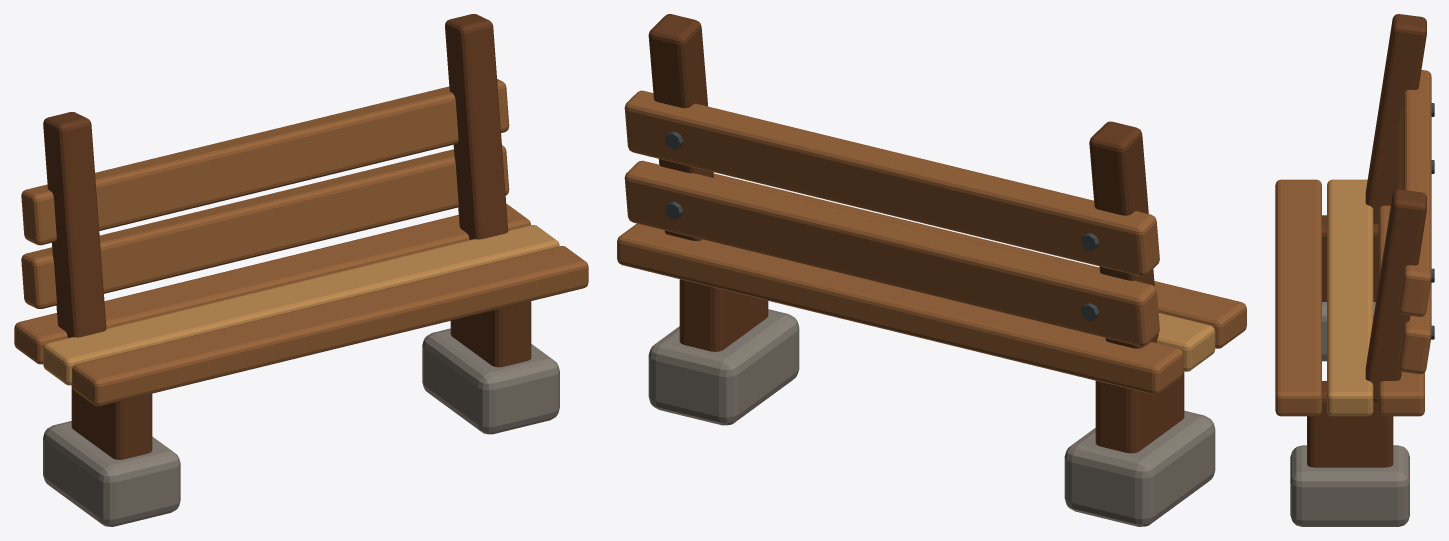
3 views of the same model, side by side, from view 1: azimuth 30°, elevation 25°; view 2: azimuth 150°, elevation 25°; view 3: azimuth 270°, elevation 25° (orthographic). The views are drawn at different scales.
Visible parts, largest first — view 1: WK_TimberBench_LOD0_High; view 2: WK_TimberBench_LOD0_High; view 3: WK_TimberBench_LOD0_High.
Part boxes in pixels (box(x1,y1,x2,y2)): WK_TimberBench_LOD0_High: box(14, 14, 588, 526); WK_TimberBench_LOD0_High: box(617, 14, 1246, 526); WK_TimberBench_LOD0_High: box(1275, 14, 1434, 526).
Size of the model in its own units: 3.08 by 2.15 by 0.9575.
